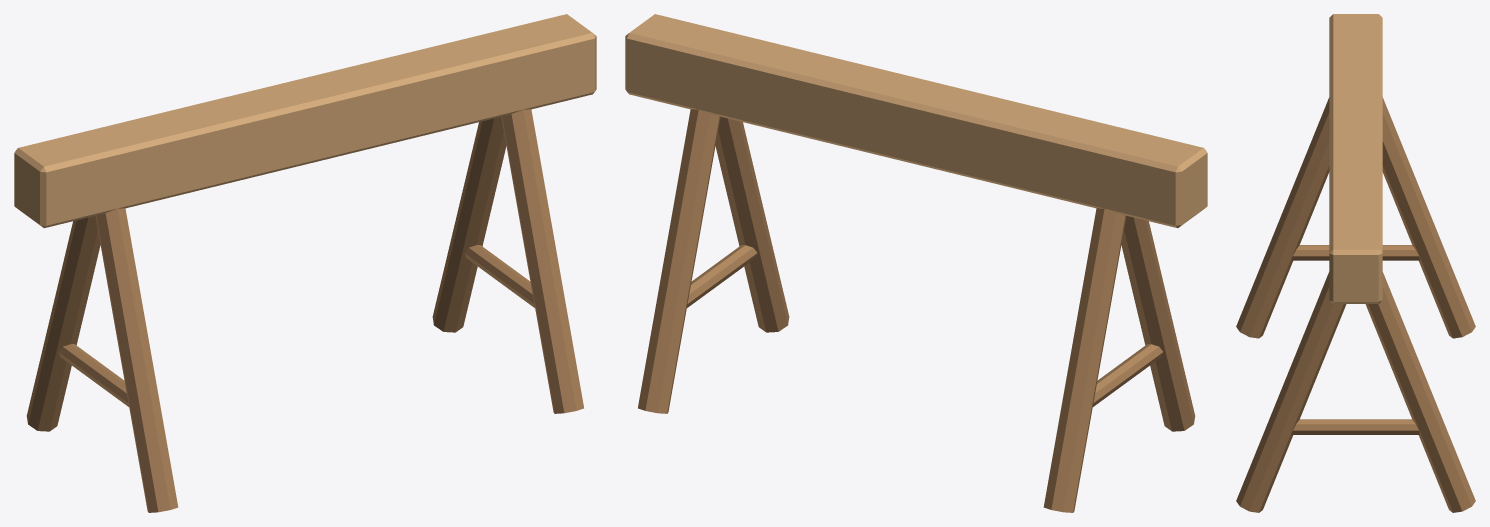
The model's file is Sawhorse_Road.glb.
3 views of the same model, side by side, from view 1: azimuth 30°, elevation 25°; view 2: azimuth 150°, elevation 25°; view 3: azimuth 270°, elevation 25° (orthographic). The views are drawn at different scales.
Parts seen in each view (by area): view 1: Sawhorse_Road; view 2: Sawhorse_Road; view 3: Sawhorse_Road.
Part boxes in pixels (x1,y1,x2,y2): Sawhorse_Road: [14, 14, 596, 512]; Sawhorse_Road: [625, 14, 1207, 512]; Sawhorse_Road: [1236, 14, 1475, 512].
Size of the model in its own units: 1.7 by 0.9648 by 0.7207.
